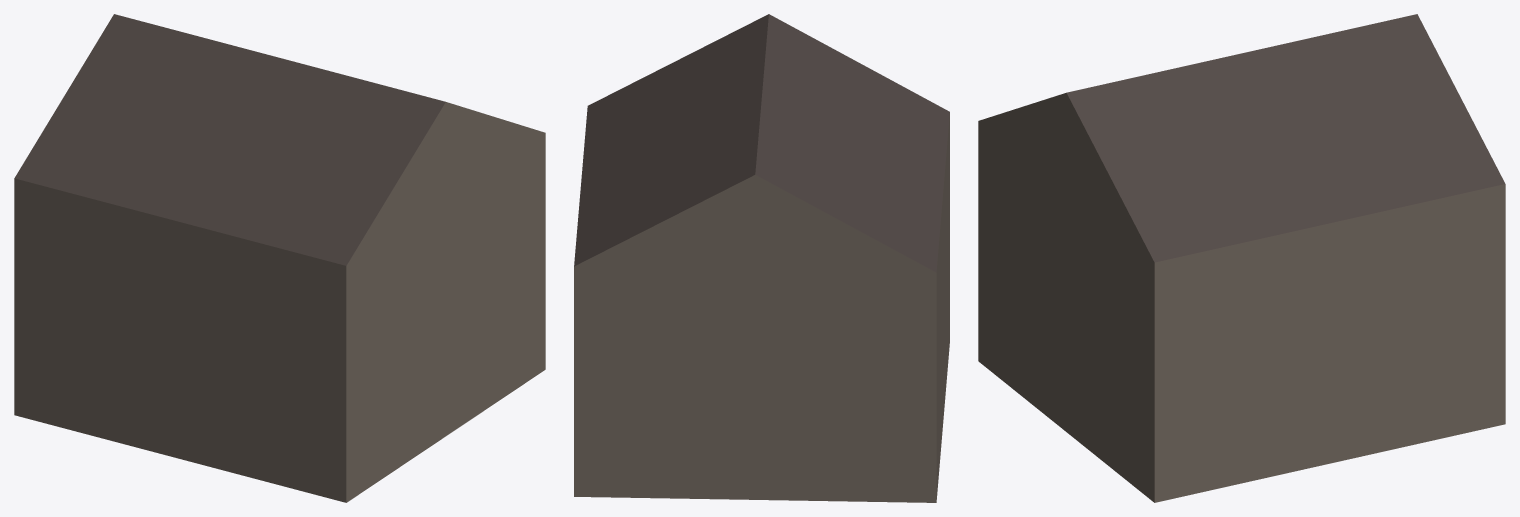
The picture shows the model from 3 angles, left to right: view 1: azimuth 30°, elevation 25°; view 2: azimuth 150°, elevation 25°; view 3: azimuth 270°, elevation 25°; orthographic projection. The views are drawn at different scales.
Parts seen in each view (by area): view 1: HP-w859086192; view 2: HP-w859086192; view 3: HP-w859086192.
Boxes of the visible parts, x1,y1,x2,y2 form: HP-w859086192: [14, 14, 545, 502]; HP-w859086192: [574, 14, 949, 502]; HP-w859086192: [978, 14, 1505, 502].
Size of the model in its own units: 17.69 by 12.71 by 17.88.
